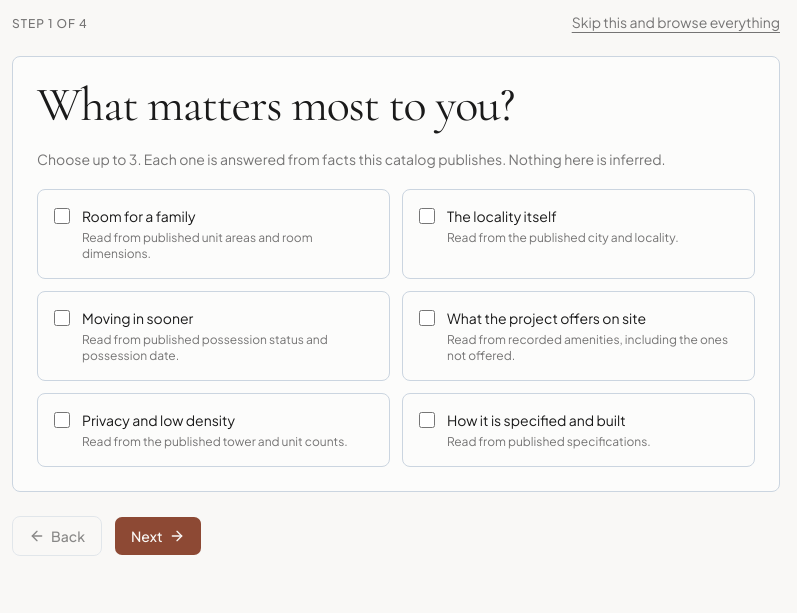
Test case: IntakeFlow — answer retention › caps the priorities and says so instead of dropping an earlier choice
This screenshot has width=797, height=613.
What coordinates should you click on to do the following:
click the checkbox labelled "Room for a family"
I would click on:
 (62, 216)
Its box is [54,208,70,224].
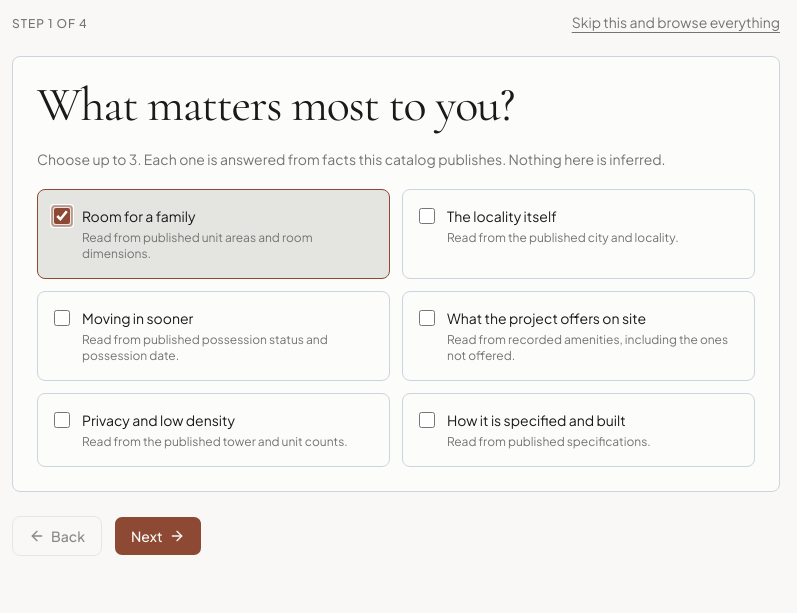
What coordinates should you click on to do the following:
click the checkbox labelled "The locality itself"
I would click on:
 (427, 216)
Its box is [419,208,435,224].
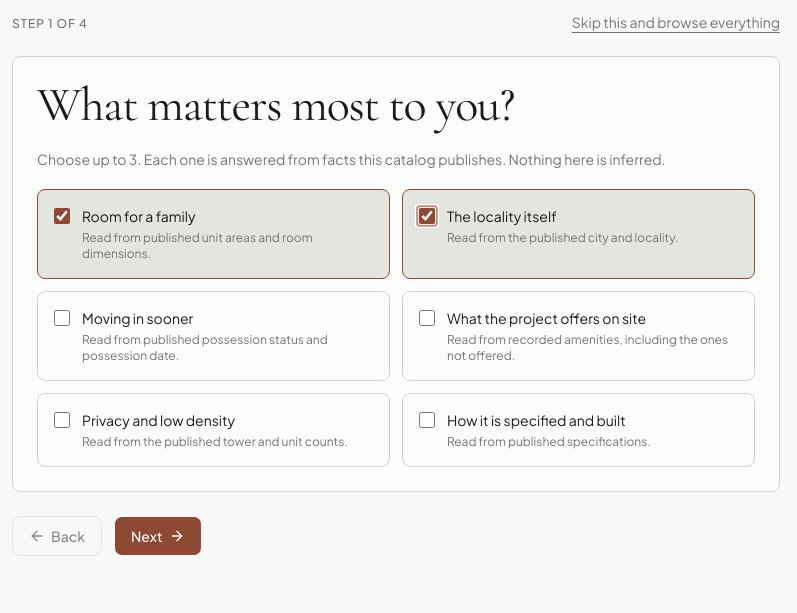
What coordinates should you click on to do the following:
click the checkbox labelled "Moving in sooner"
I would click on:
 (62, 318)
Its box is [54,310,70,326].
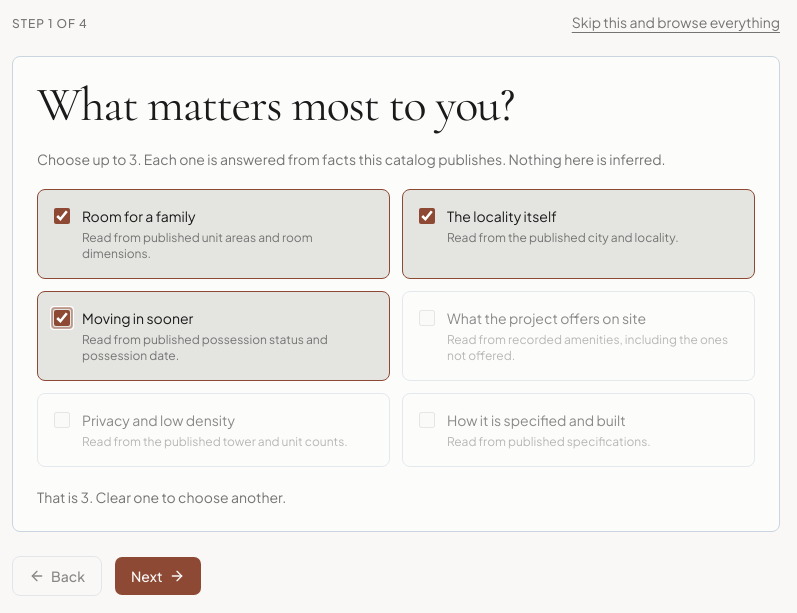
Expected: the checkbox labelled "Room for a family" is checked, [54,208,70,224]
Expected: the text "That is 3. Clear one to choose another." is shown, [37,488,286,506]
